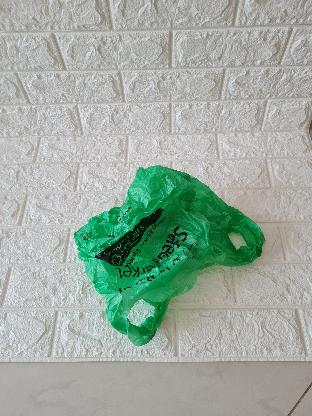Plastic Bag: (79, 166, 263, 346)
